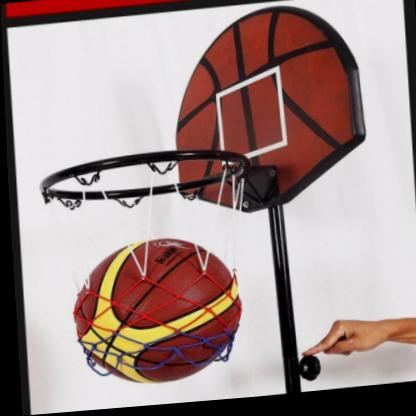basketball: (67, 234, 242, 393)
